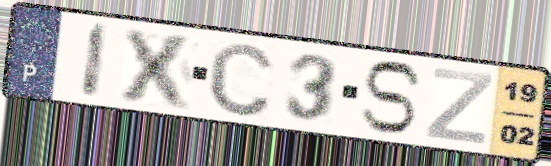3: (282, 52, 340, 123)
C: (205, 39, 277, 119)
I: (78, 19, 111, 102)
S: (357, 58, 425, 136)
X: (115, 25, 199, 112)
Z: (423, 66, 496, 147)
